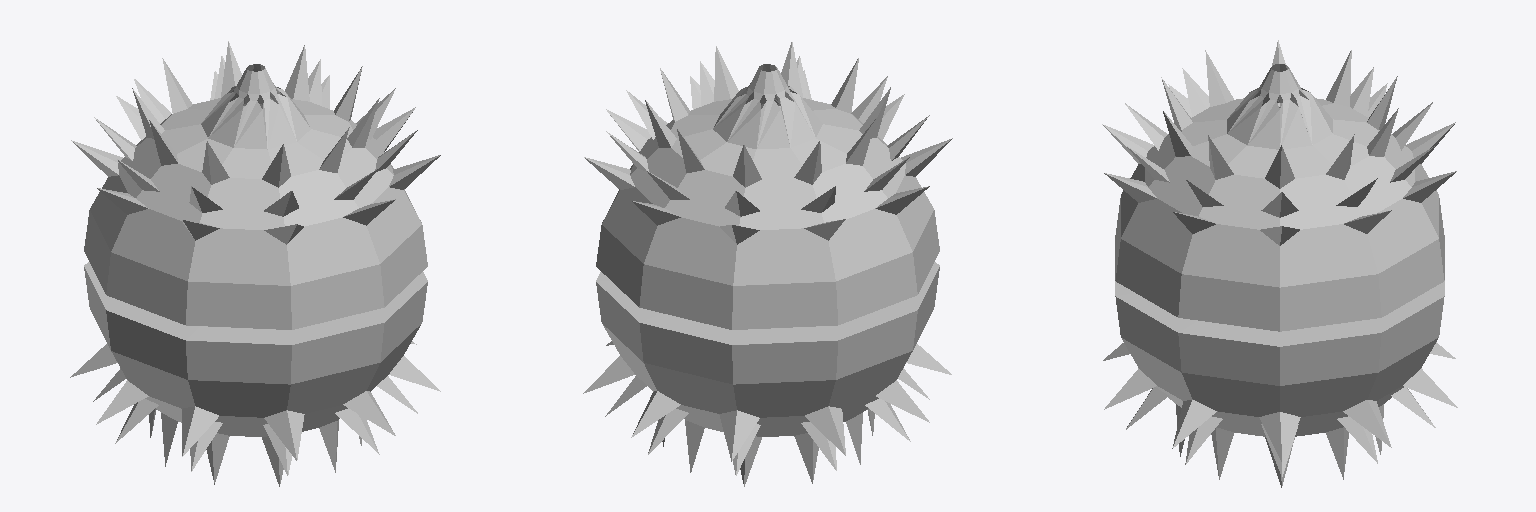
The model's file is bossdrone.obj.
3 views of the same model, side by side, from view 1: azimuth 30°, elevation 25°; view 2: azimuth 150°, elevation 25°; view 3: azimuth 270°, elevation 25° (orthographic).
Visible parts, largest first — view 1: pSphere1; view 2: pSphere1; view 3: pSphere1.
Part boxes in pixels (left/top/right/bottom): pSphere1: left=70, top=41, right=440, bottom=486; pSphere1: left=583, top=42, right=952, bottom=486; pSphere1: left=1102, top=40, right=1457, bottom=487.
Bounding box in the file's own units: 872 × 969 × 833.